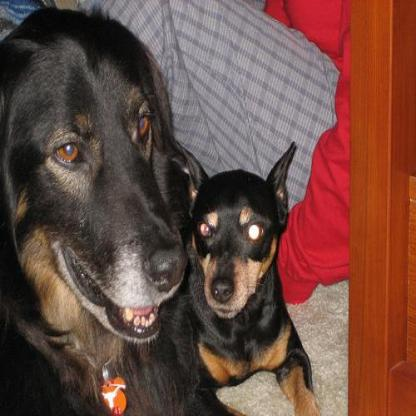miniature_pinscher: (0, 0, 196, 414), (175, 138, 323, 414)
